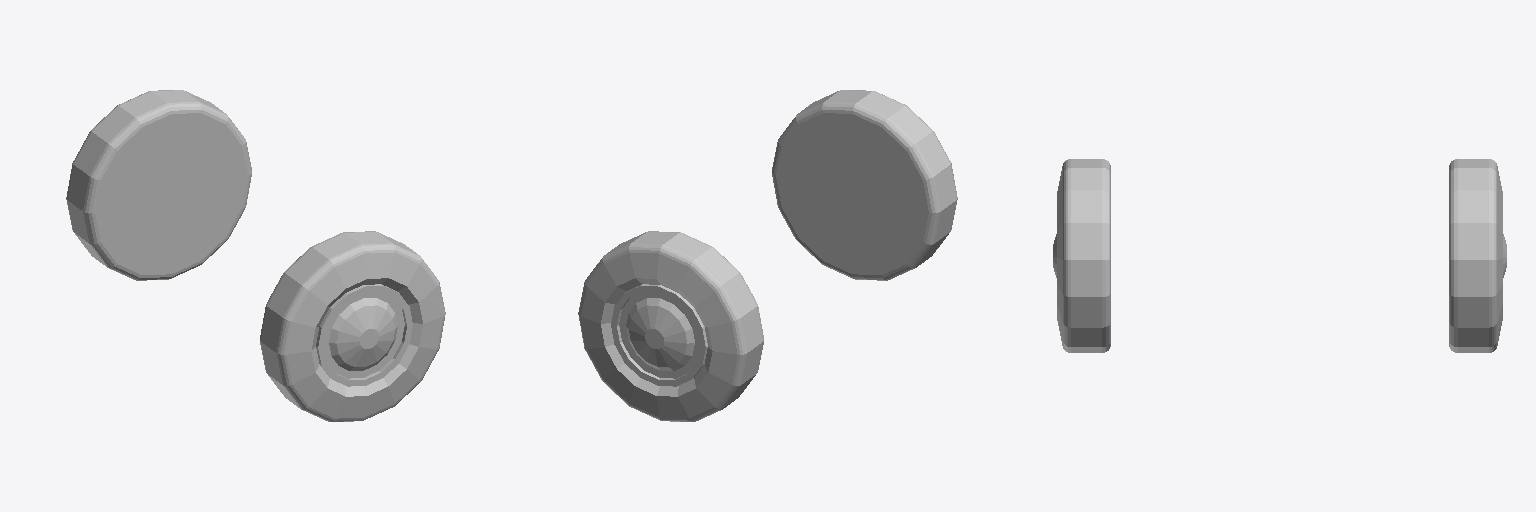
The model's file is roues.obj.
3 renders of one model, left to right at view 1: azimuth 30°, elevation 25°; view 2: azimuth 150°, elevation 25°; view 3: azimuth 270°, elevation 25°, orthographic.
Parts seen in each view (by area): view 1: Object_40; view 2: Object_40; view 3: Object_40.
Boxes of the visible parts, box(x1,y1,x2,y2) form: Object_40: box(66, 90, 445, 421); Object_40: box(578, 90, 957, 421); Object_40: box(1053, 159, 1506, 352).
Bounding box in the file's own units: 0.7452 × 0.7452 × 1.74.